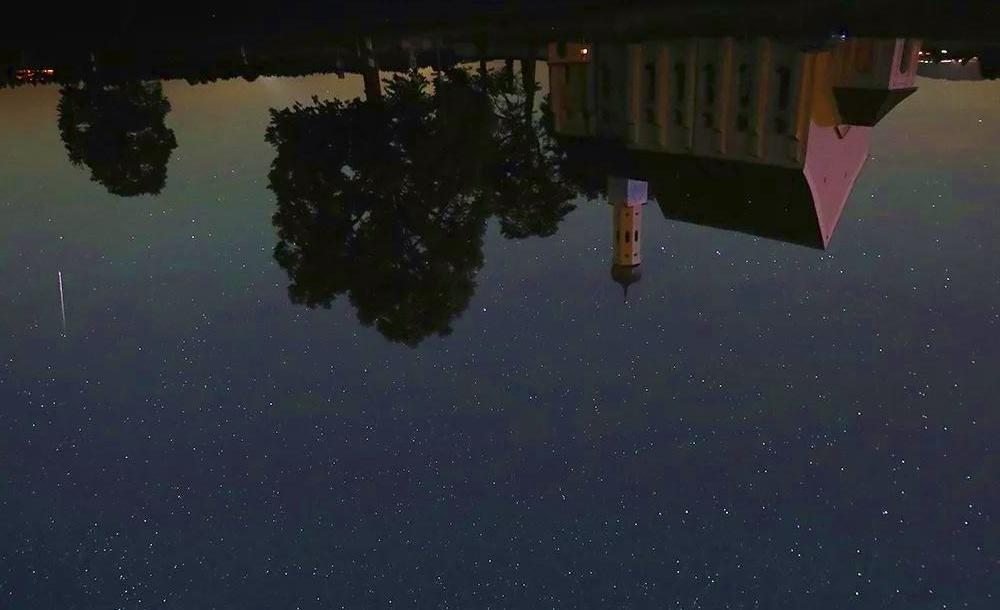meteorite: (46, 257, 75, 339)
